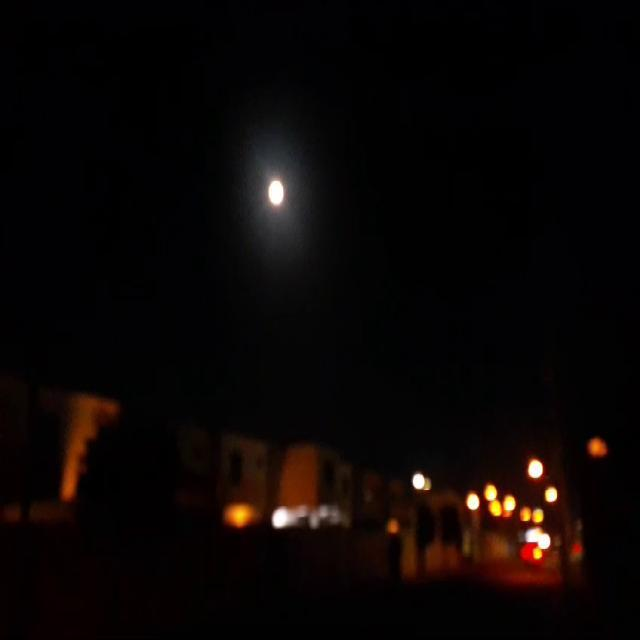moon: (267, 176, 287, 210)
